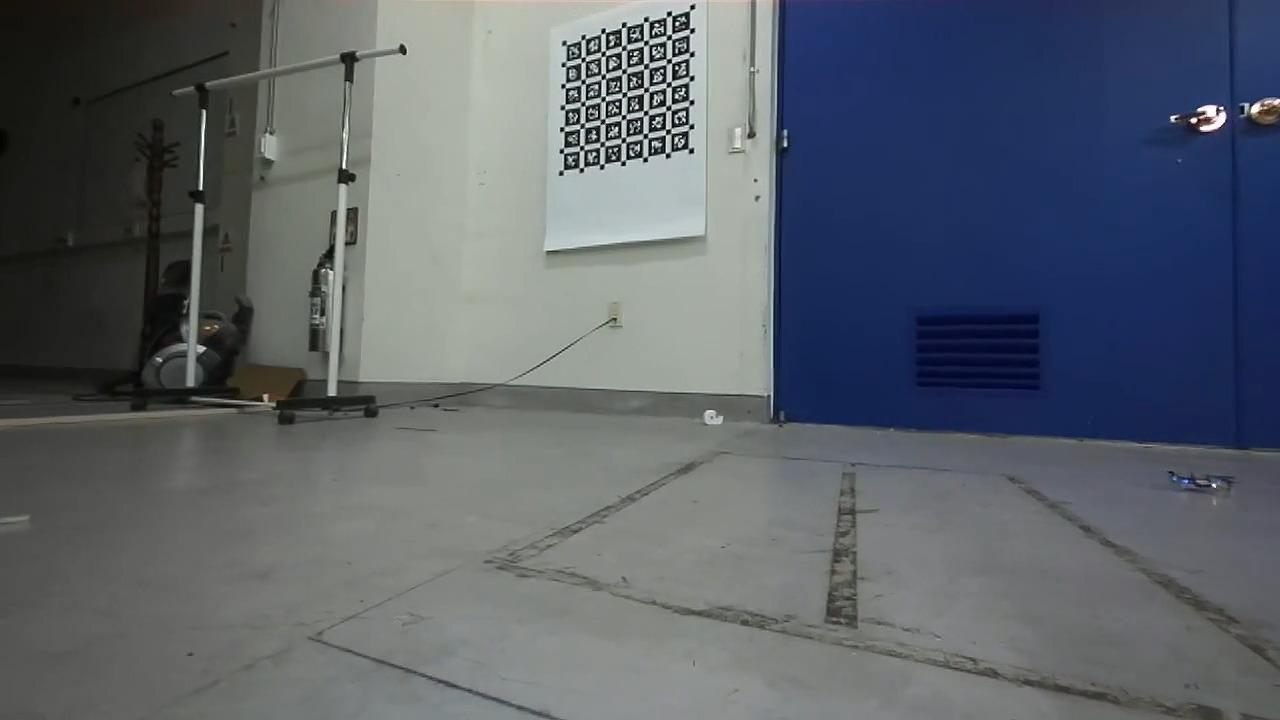crazyflie: (1166, 468, 1240, 500)
